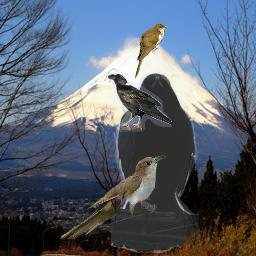Crow: (111, 73, 199, 253), (107, 73, 172, 132)
Cuckoo: (60, 155, 166, 239), (135, 23, 168, 79)
